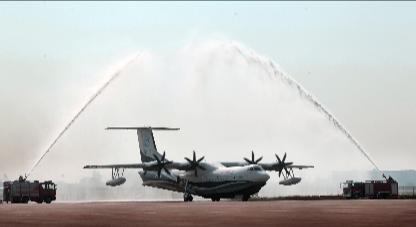AG600: (82, 124, 314, 201)
